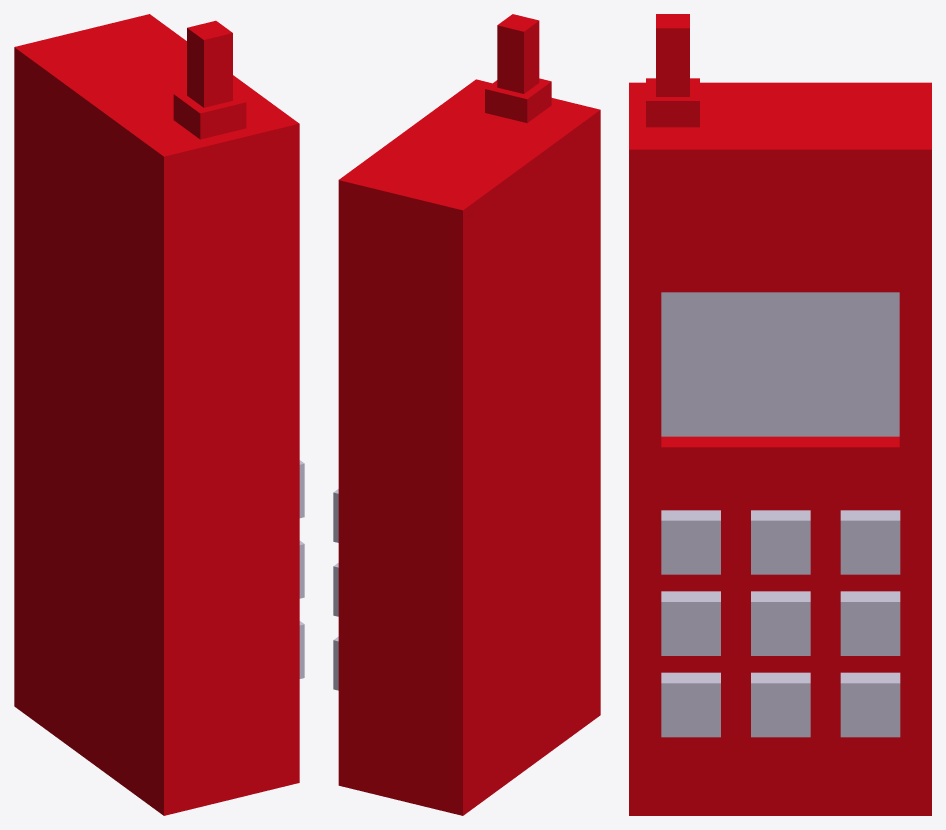
File: phone.fbx
3 renders of one model, left to right at view 1: azimuth 30°, elevation 25°; view 2: azimuth 150°, elevation 25°; view 3: azimuth 270°, elevation 25°, orthographic. The views are drawn at different scales.
Parts seen in each view (by area): view 1: Cube.003; view 2: Cube.003; view 3: Cube.003.
Part boxes in pixels (<box>): Cube.003: <box>14,14,304,815</box>; Cube.003: <box>333,14,600,815</box>; Cube.003: <box>629,14,931,815</box>.
Bounding box in the file's own units: 0.7259 × 3.33 × 1.2.
